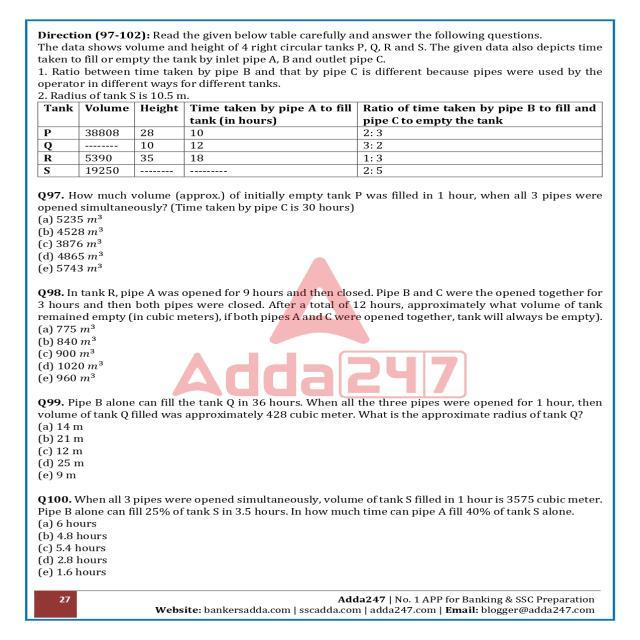Answer_Block: (29, 420, 609, 490), (26, 213, 606, 280), (29, 322, 609, 385), (29, 519, 609, 576)
Instruction: (28, 24, 608, 180)
Question_Answer_Block: (29, 285, 609, 385), (29, 393, 609, 490), (26, 185, 606, 280), (29, 492, 609, 576)
Question_Block: (29, 285, 609, 321), (26, 185, 606, 214), (29, 393, 609, 422), (29, 492, 609, 516)
Question_Paper_Area: (32, 31, 612, 592)
